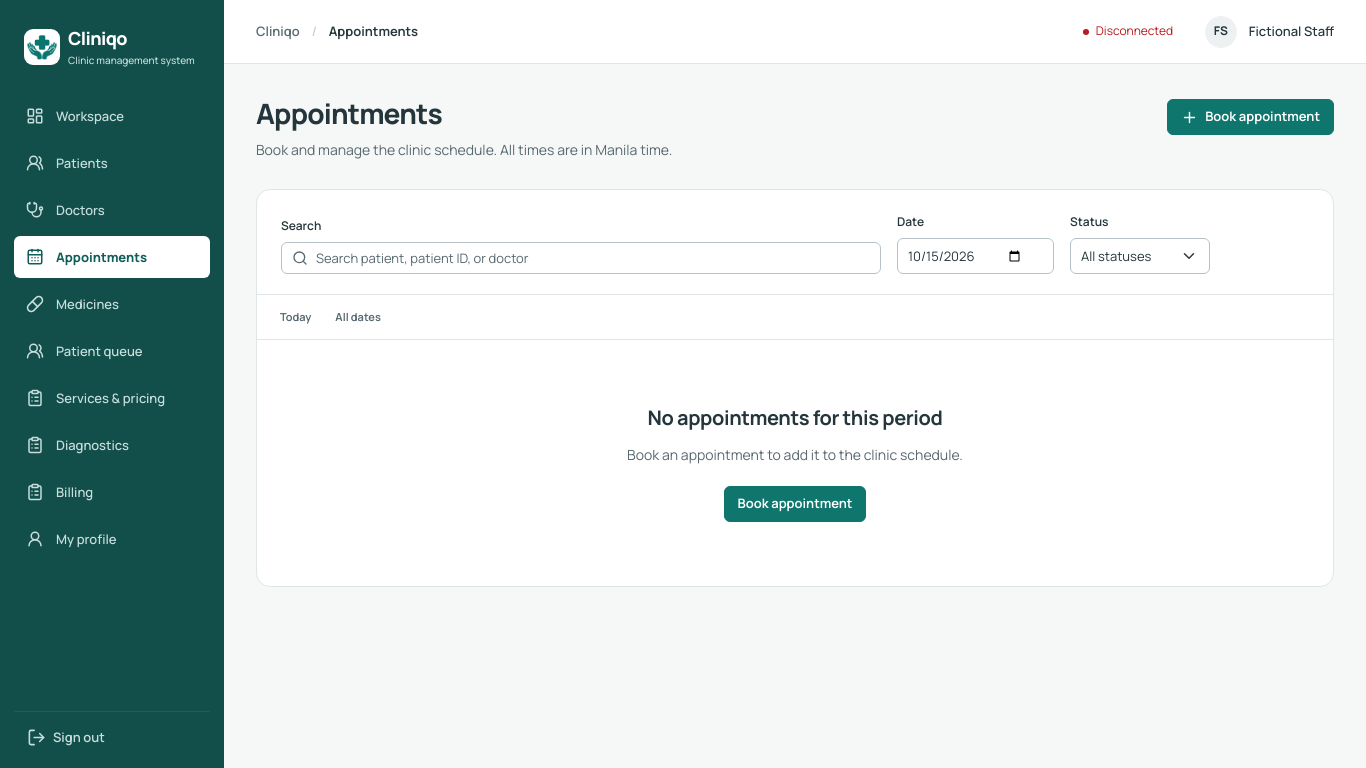
Test case: appointment and dashboard components › filters by clinic date/status and distinguishes genuine empty schedules
The width and height of the screenshot is (1366, 768).
Expected: the heading "No appointments for this period" is shown, [648,404,942,431]
Click the button "All dates": (358, 317) [324,303,392,331]
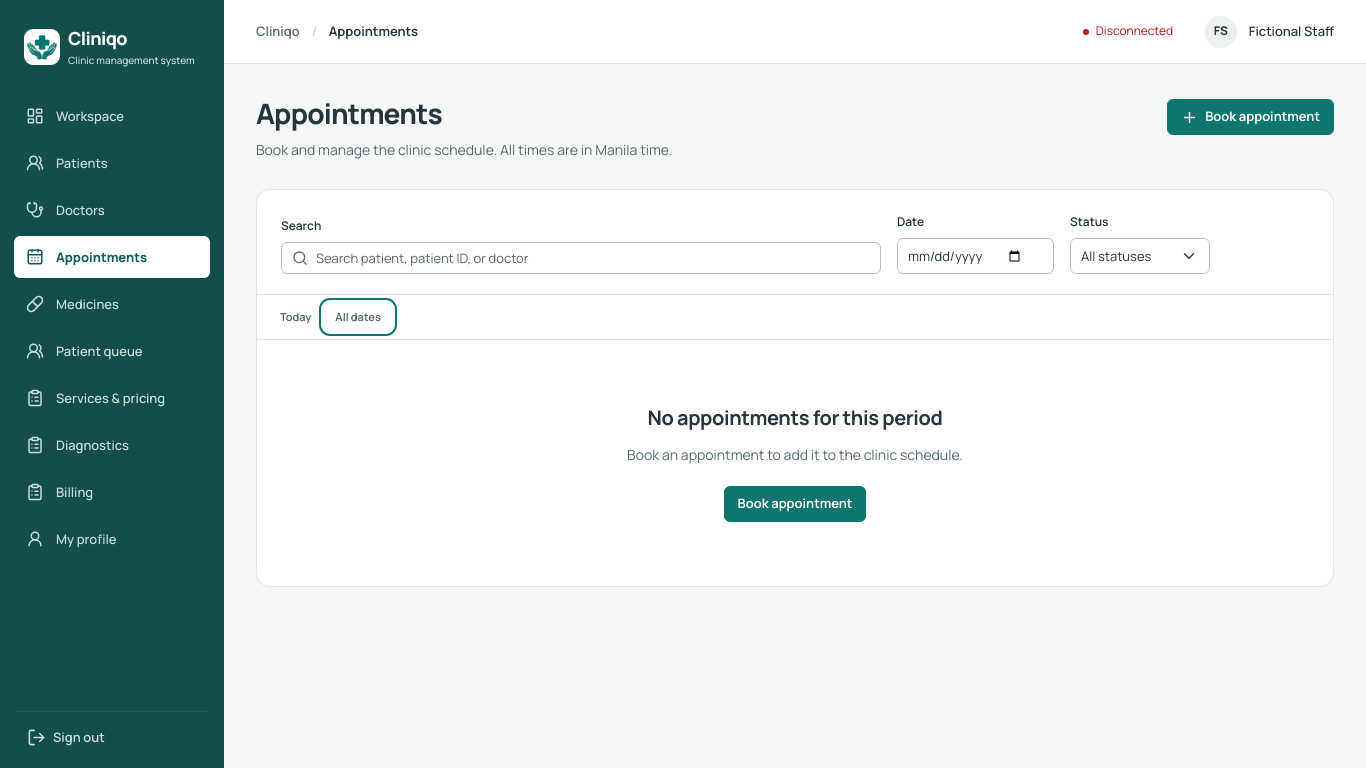
Select "Checked in" in the dropdown labelled "Status": (1140, 256) [1070,238,1210,274]
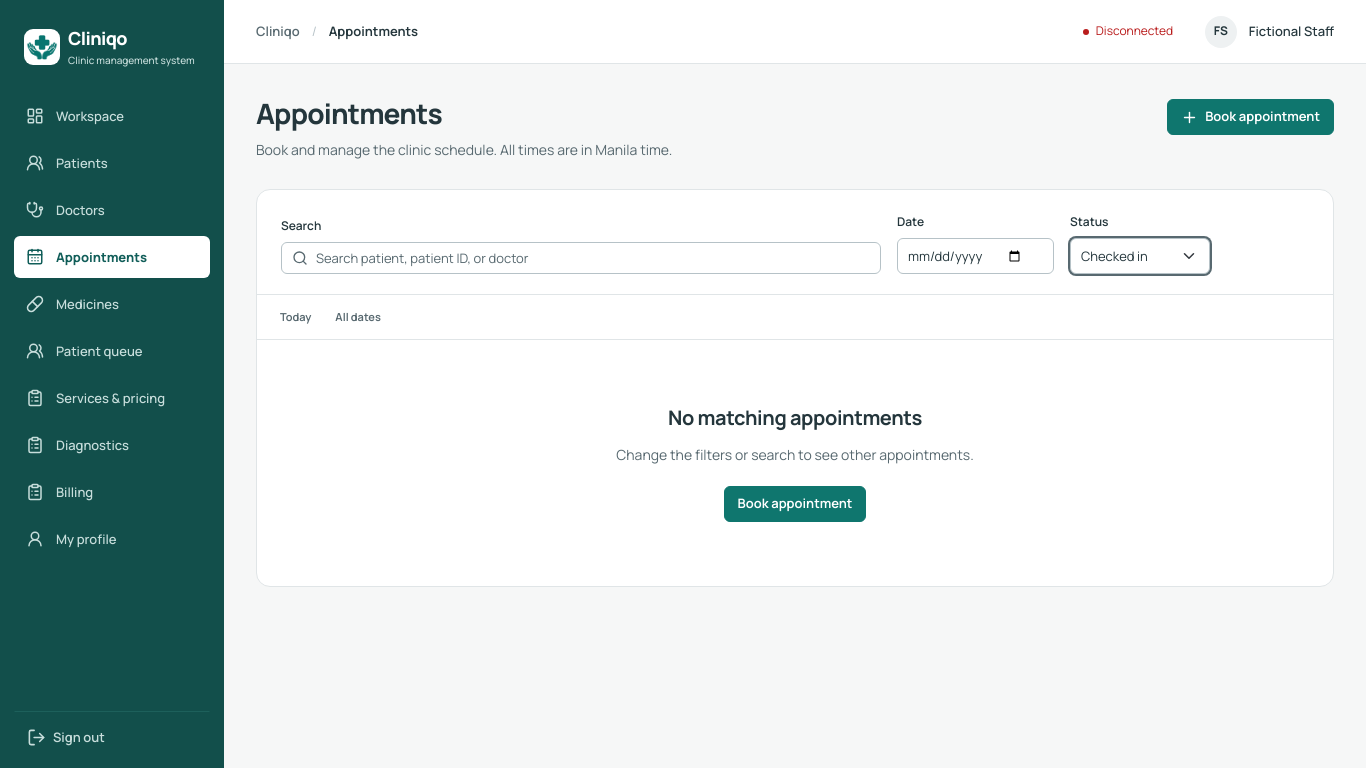
Result: the heading "No matching appointments" is shown at [668,404,922,431]
